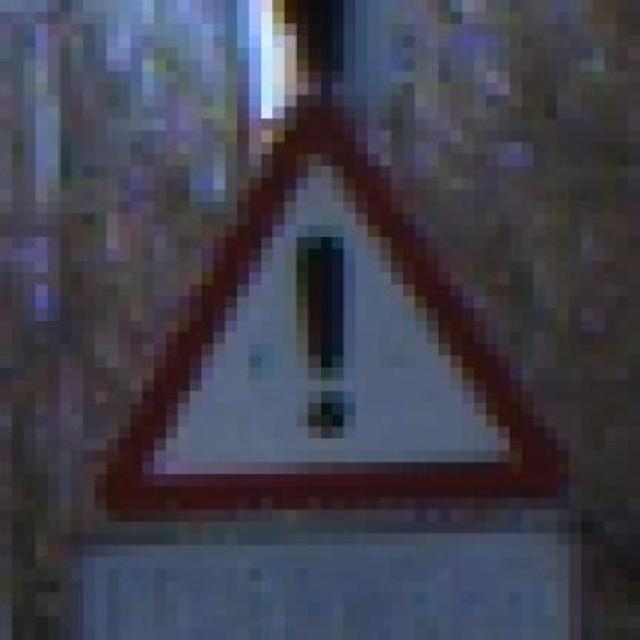Attention Please-: (70, 106, 582, 522)
